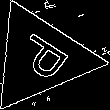P_SE: (6, 28, 74, 88)
